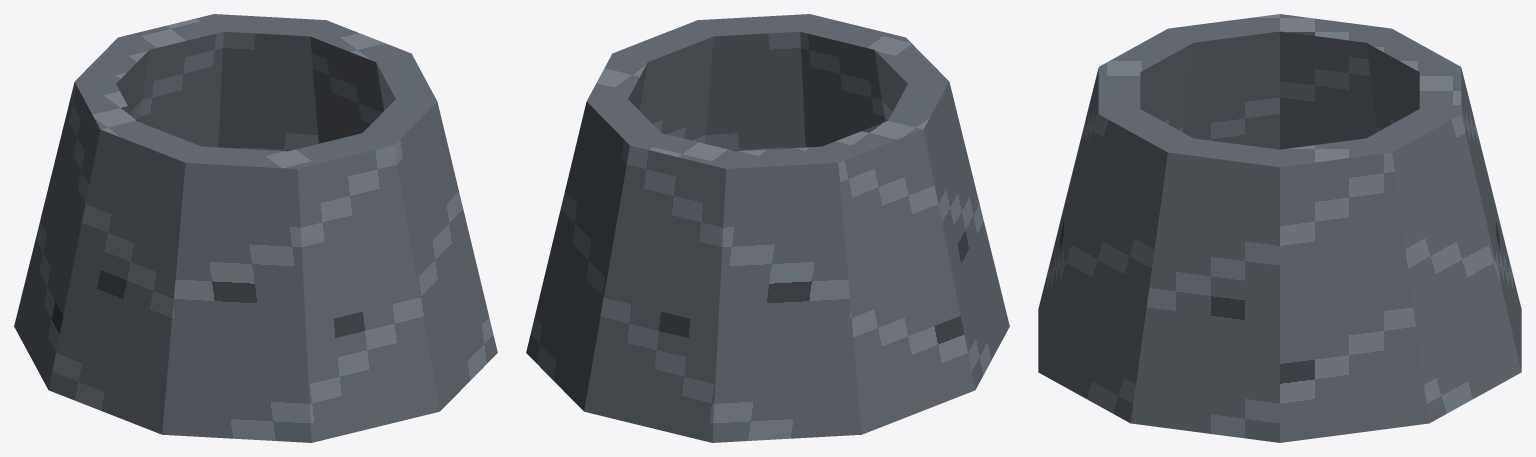
The model's file is malla.glb.
3 renders of one model, left to right at view 1: azimuth 30°, elevation 25°; view 2: azimuth 150°, elevation 25°; view 3: azimuth 270°, elevation 25°, orthographic.
Visible parts, largest first — view 1: gola; view 2: gola; view 3: gola.
Boxes of the visible parts, left/top/right/bottom form: gola: left=14, top=14, right=497, bottom=442; gola: left=526, top=14, right=1009, bottom=442; gola: left=1038, top=14, right=1521, bottom=442.
Size of the model in its own units: 0.35 by 0.2 by 0.35.
1 material, 1 textured.
